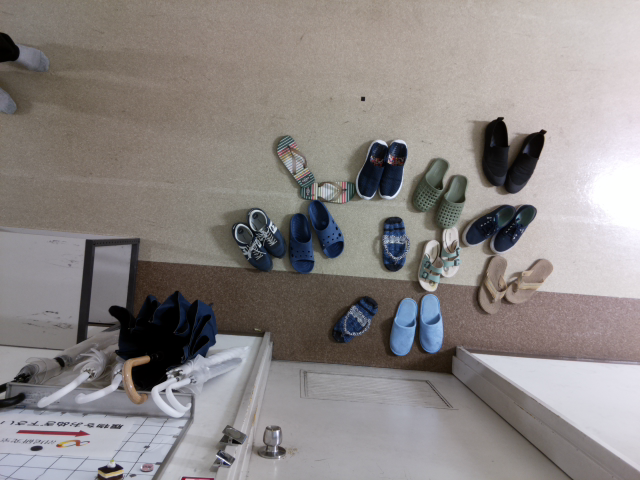Copy of Copy of Copy of Copy of Copy of Copy of Copy of Copy of Copy of Copy of: (488, 200, 539, 258), (460, 200, 520, 249), (502, 256, 556, 306), (309, 199, 351, 262), (373, 137, 412, 203), (354, 138, 392, 204), (474, 251, 510, 316), (385, 294, 421, 359), (416, 290, 448, 356), (292, 177, 361, 207), (285, 210, 316, 276)
Copy of Copy of Copy of Copy of Copy of Copy of Copy of Copy of Copy of shoe: (244, 207, 291, 265)
Copy of Copy of Copy of Copy of Copy of Copy of Copy of Copy of shoe: (229, 219, 277, 277)
Copy of Copy of Copy of Copy of Copy of Copy of Copy of shoe: (329, 292, 381, 346)
Copy of Copy of Copy of Copy of Copy of Copy of shoe: (376, 213, 412, 272)
Copy of Copy of Copy of Copy of Copy of shoe: (412, 236, 449, 295)
Copy of Copy of Copy of Copy of shoe: (432, 220, 469, 279)
Copy of Copy of Copy of shoe: (432, 172, 469, 231)
Copy of Copy of shoe: (409, 156, 451, 214)
Copy of shoe: (480, 114, 513, 189)
shoe: (271, 129, 316, 189)
